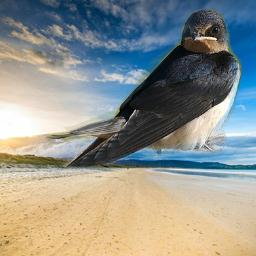Swallow: (44, 9, 242, 167)
